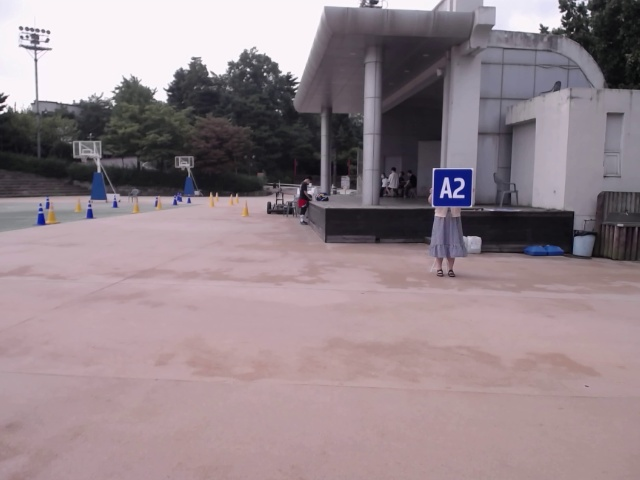delivery_a2: (432, 169, 473, 208)
